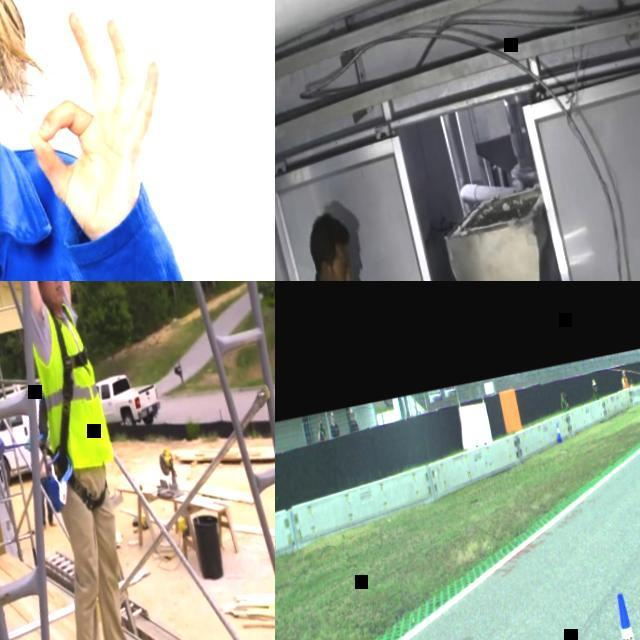vest: (26, 301, 120, 477), (622, 377, 630, 390), (630, 382, 634, 388)
